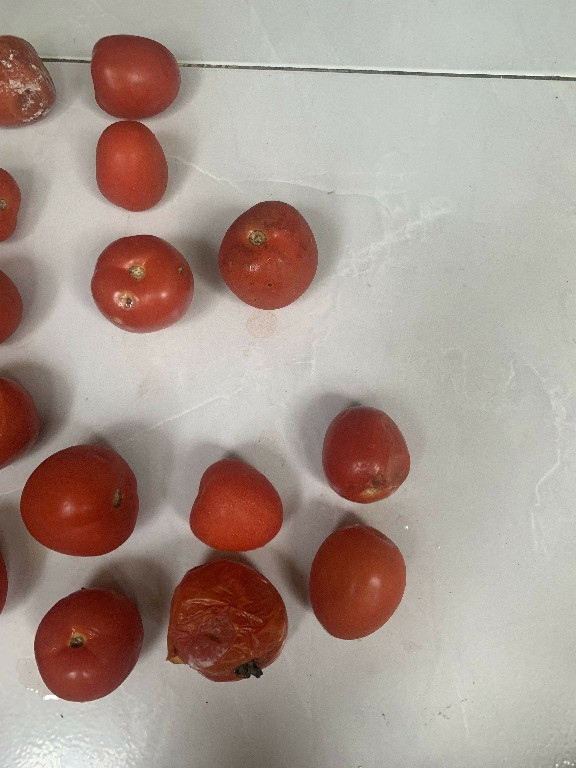NG: (157, 554, 289, 692), (214, 196, 321, 313), (87, 227, 197, 337), (314, 399, 416, 508), (0, 17, 59, 136)
OK: (12, 436, 142, 555), (26, 583, 148, 705), (306, 521, 413, 649), (184, 456, 285, 556), (85, 31, 184, 120), (85, 117, 171, 216)
